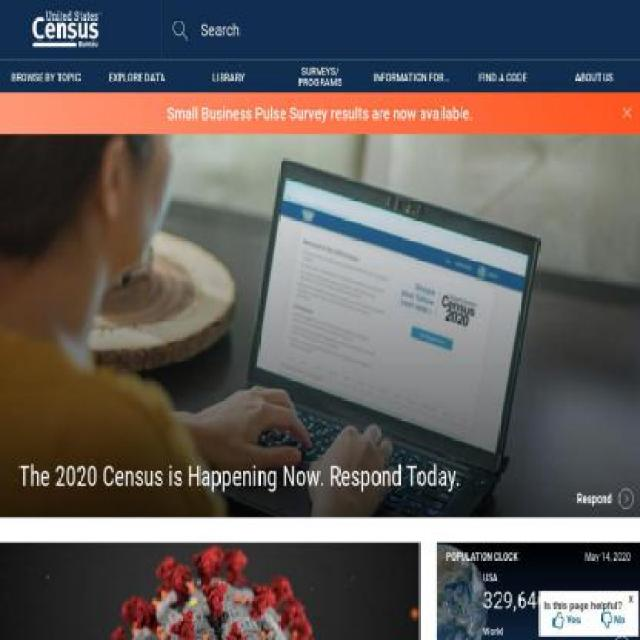button: (0, 134, 640, 518), (0, 542, 422, 638), (32, 11, 102, 49), (278, 62, 362, 92), (5, 62, 87, 92), (96, 62, 178, 92), (462, 62, 544, 92), (553, 62, 635, 92), (188, 62, 269, 92), (371, 62, 452, 92), (628, 594, 638, 606)
field: (201, 0, 639, 62)
